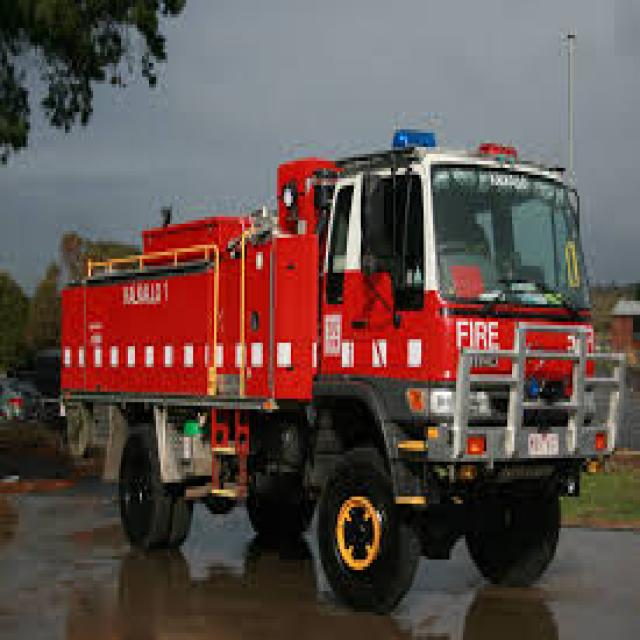Fire_brigade: (49, 112, 626, 612)
